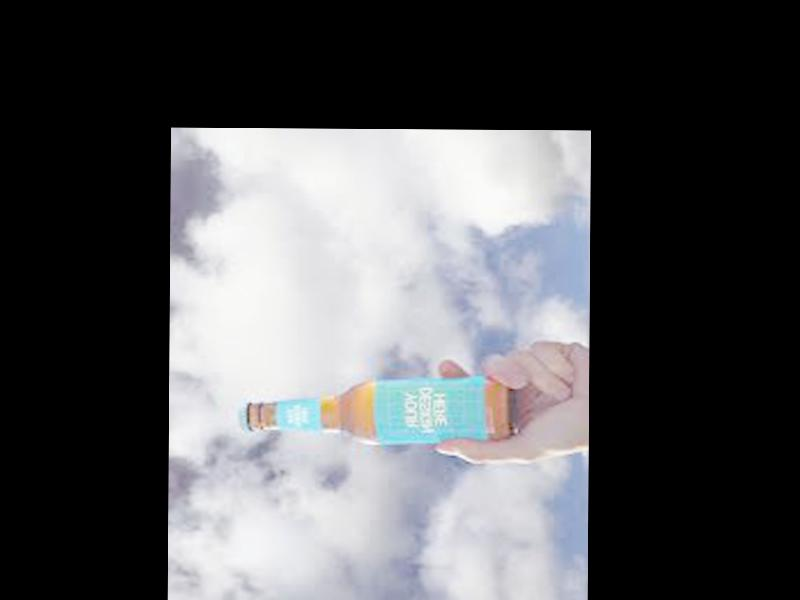Beer: (240, 380, 513, 445)
